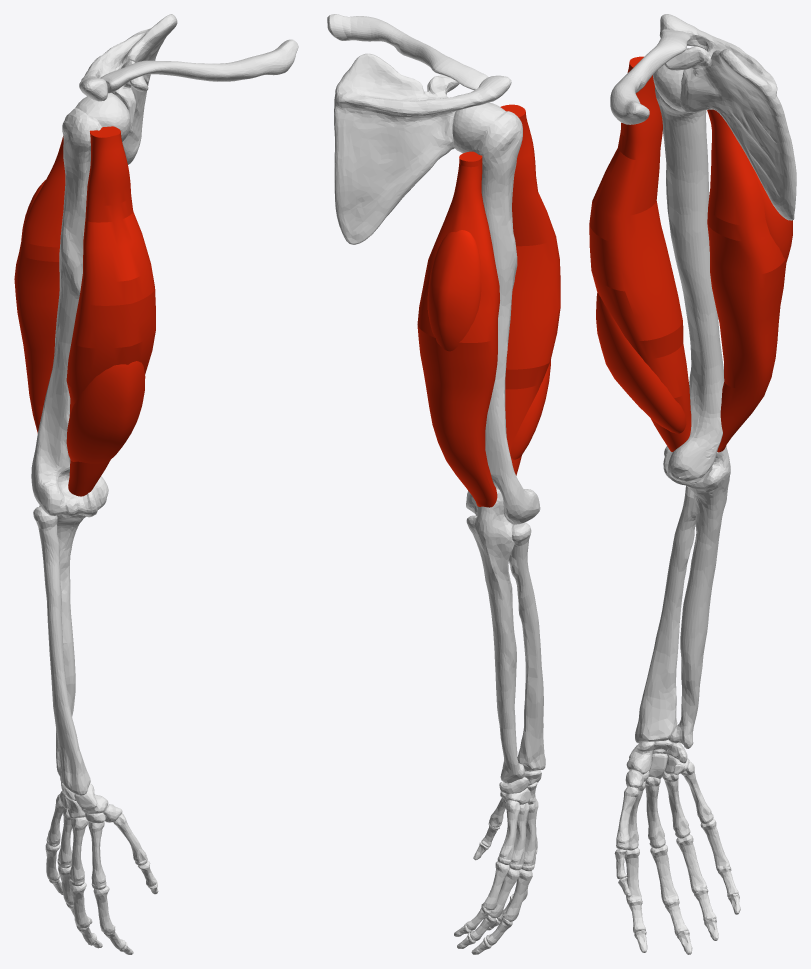
File: biceps musle arm.gltf
The picture shows the model from 3 angles, left to right: view 1: azimuth 30°, elevation 25°; view 2: azimuth 150°, elevation 25°; view 3: azimuth 270°, elevation 25°; orthographic projection. The views are drawn at different scales.
Parts seen in each view (by area): view 1: SubTool-0-3517926.001, Cylinder, SubTool-0-3517926.002, Cylinder.001, Sphere; view 2: SubTool-0-3517926.001, SubTool-0-3517926.002, Cylinder.001, Cylinder, Sphere.001, Sphere; view 3: SubTool-0-3517926.001, SubTool-0-3517926.002, Cylinder, Cylinder.001, Sphere, Sphere.001.
Boxes of the visible parts, x1,y1,x2,y2 form: SubTool-0-3517926.001: (31, 14, 298, 517); Cylinder: (66, 126, 155, 496); SubTool-0-3517926.002: (33, 505, 158, 954); Cylinder.001: (14, 136, 65, 433); Sphere: (66, 361, 145, 463); SubTool-0-3517926.001: (327, 14, 540, 524); SubTool-0-3517926.002: (454, 488, 545, 954); Cylinder.001: (417, 151, 499, 507); Cylinder: (500, 104, 560, 475); Sphere.001: (427, 230, 481, 351); Sphere: (510, 360, 550, 459); SubTool-0-3517926.001: (610, 14, 796, 485); SubTool-0-3517926.002: (614, 446, 740, 954); Cylinder: (589, 56, 691, 451); Cylinder.001: (707, 109, 786, 452); Sphere: (596, 293, 686, 433); Sphere.001: (754, 170, 792, 262).
Size of the model in its own units: 0.8818 by 3.24 by 0.6418.
